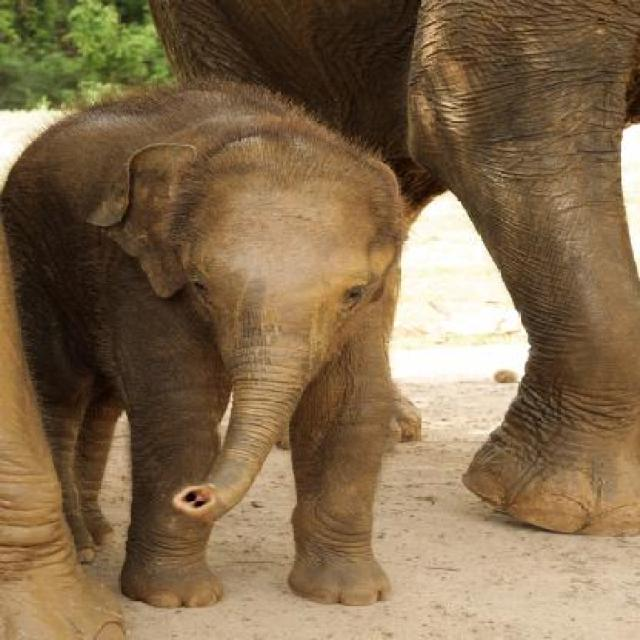Elephant: (0, 72, 417, 622)
